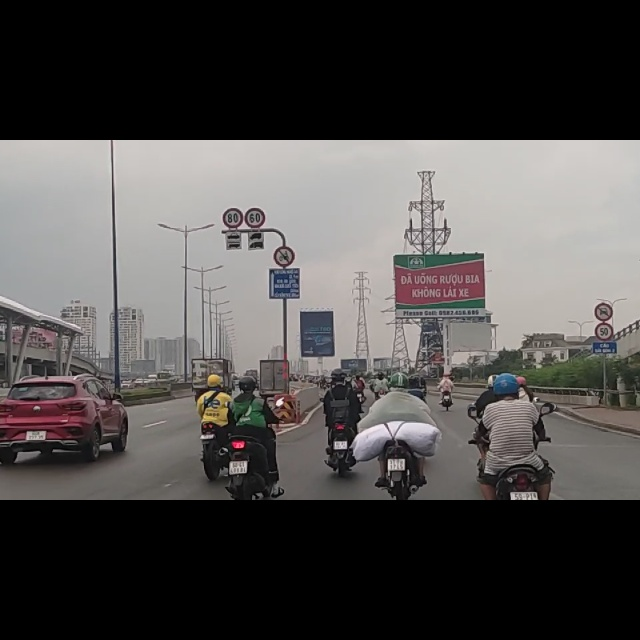bien_cam: (222, 122, 244, 159), (273, 188, 295, 222), (245, 121, 265, 156), (597, 288, 613, 322), (595, 327, 612, 358)
